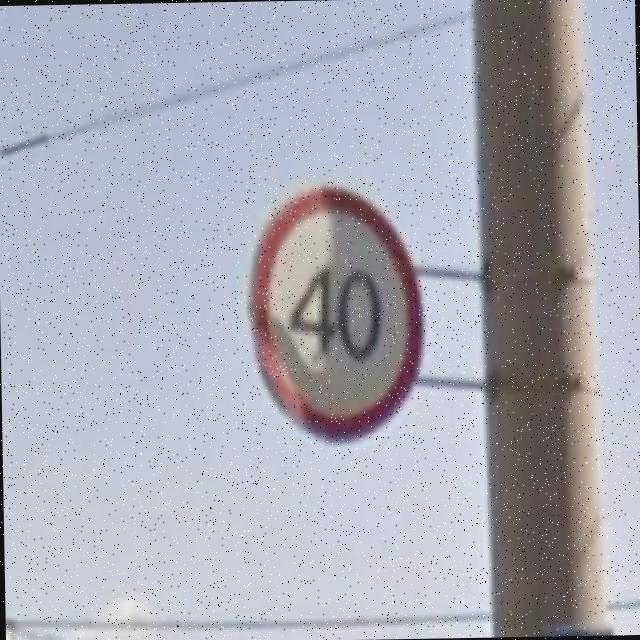Ograniczenie predkosci do 40: (246, 182, 427, 446)
